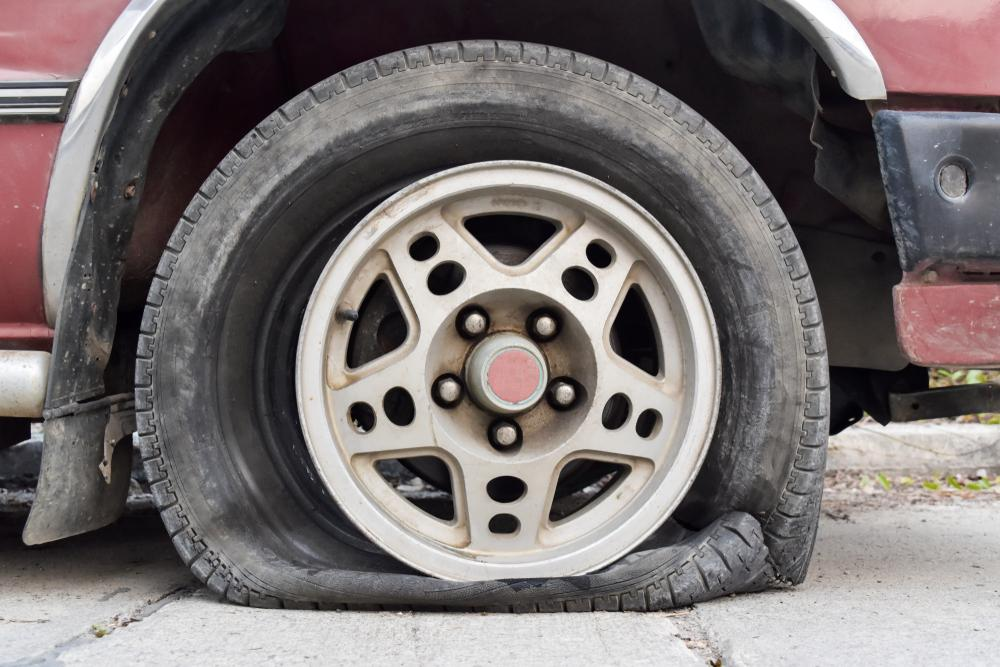tire flat: (133, 35, 834, 612)
